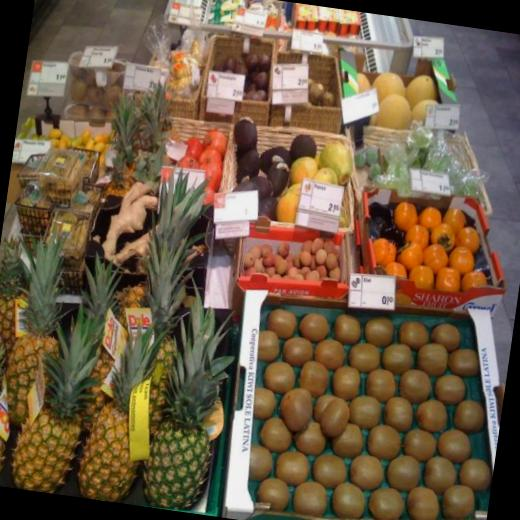Mango: (0, 141, 260, 516), (99, 65, 187, 206)
